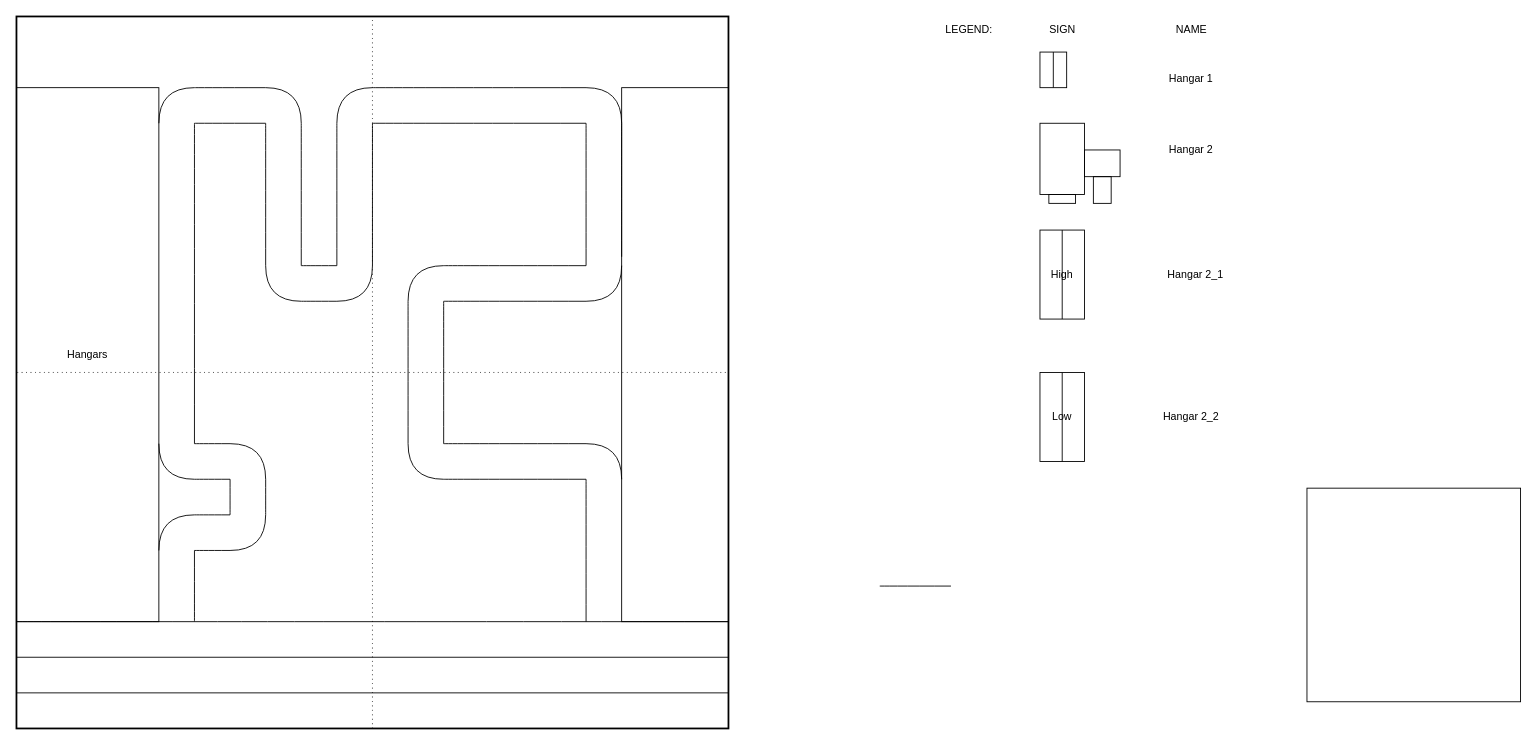
This 1536x745 diagram has some shape labels left out. Each missing label, with the box of its shape:
Old garages: (621, 87, 728, 622)
Square: (1306, 487, 1521, 702)
